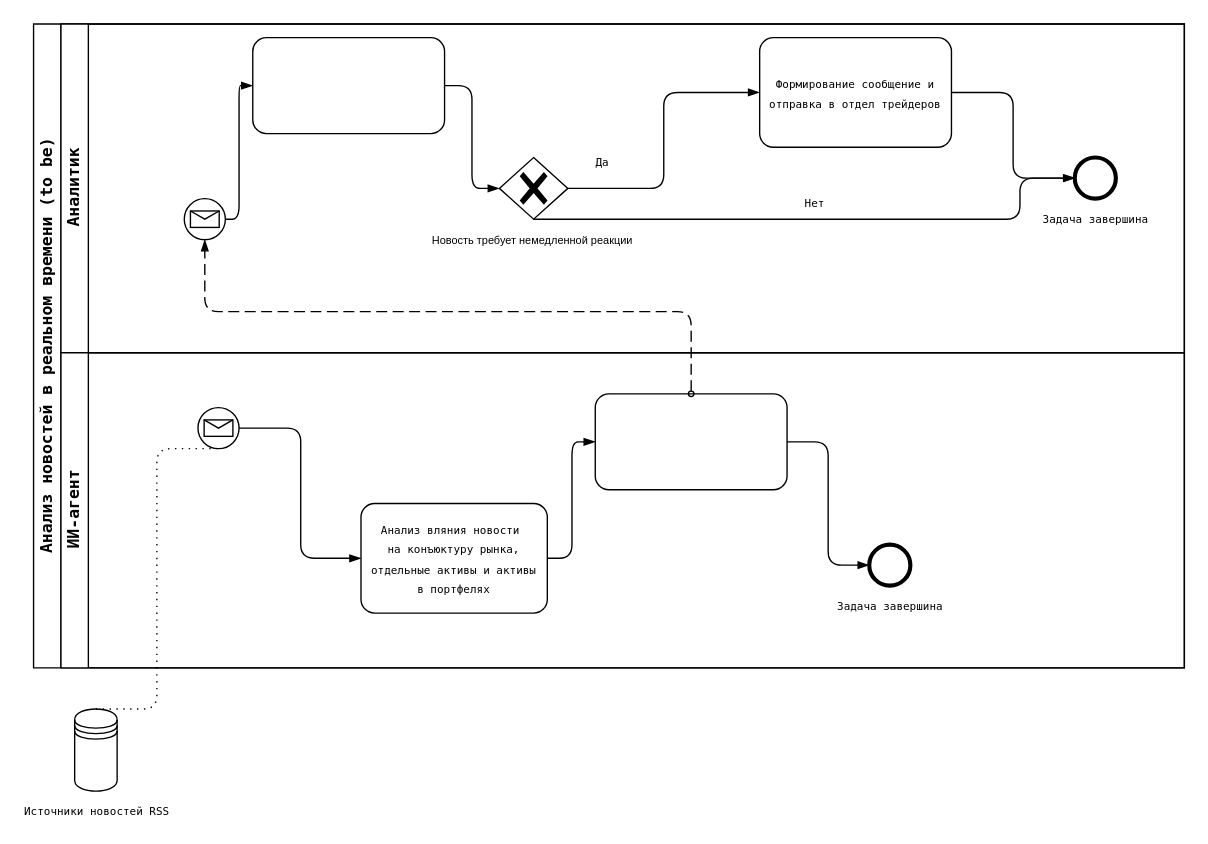
The diagram is 1208 pixels wide and 844 high, and some of its shapes have lost their labels. The centre of each missing label's shape, as x and y in pixels:
Анализ выполнен. Формирование сообщения с рекомендацией или прогнозом: point 690,441
Оценка сообщения от информационной системы: point 348,85
Получена новая новость: point 218,427
Получено сообщение от ии-агента: point 204,218
